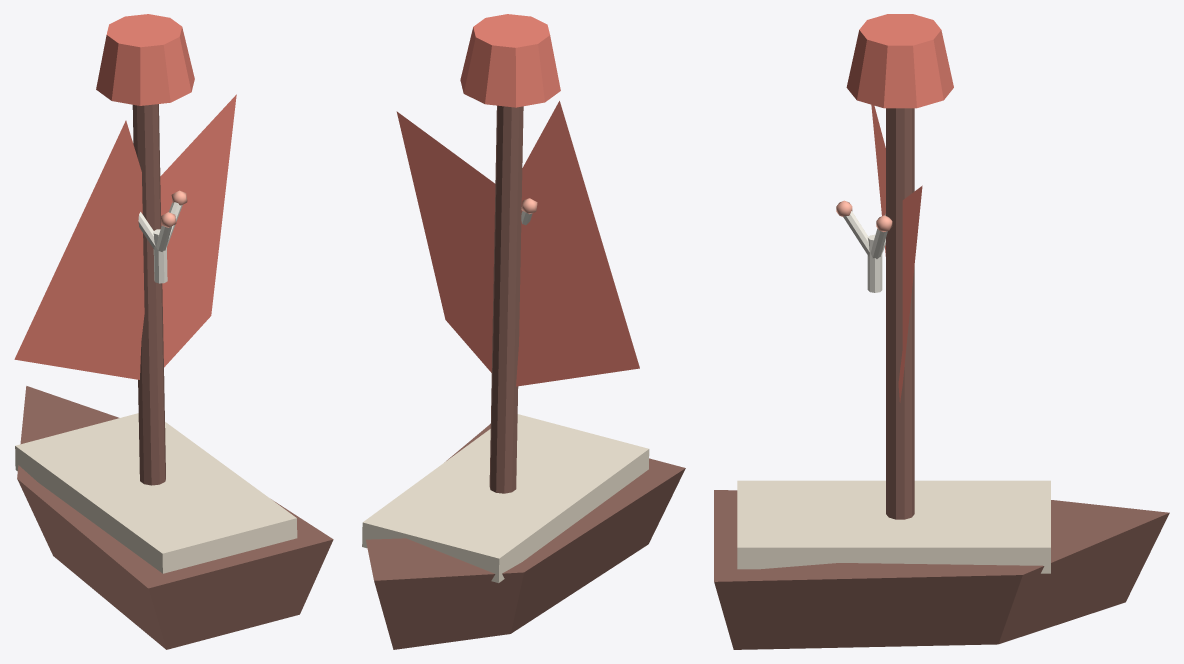
Rendered from scout-coral.glb.
The picture shows the model from 3 angles, left to right: view 1: azimuth 30°, elevation 25°; view 2: azimuth 150°, elevation 25°; view 3: azimuth 270°, elevation 25°; orthographic projection. The views are drawn at different scales.
Visible parts, largest first — view 1: Distinctive sail, Carved hull, Pearl deck, Mast, Lookout basket, Coral stem; view 2: Distinctive sail, Pearl deck, Carved hull, Mast, Lookout basket; view 3: Carved hull, Pearl deck, Mast, Lookout basket, Distinctive sail, Coral stem.
Boxes of the visible parts, left/top/right/bottom form: Distinctive sail: left=14, top=94, right=236, bottom=379; Carved hull: left=17, top=386, right=333, bottom=649; Pearl deck: left=15, top=413, right=297, bottom=573; Mast: left=132, top=104, right=165, bottom=485; Lookout basket: left=96, top=14, right=194, bottom=105; Coral stem: left=153, top=229, right=167, bottom=283; Distinctive sail: left=396, top=101, right=639, bottom=386; Pearl deck: left=362, top=414, right=649, bottom=582; Carved hull: left=366, top=424, right=685, bottom=649; Mast: left=489, top=105, right=523, bottom=493; Lookout basket: left=460, top=14, right=560, bottom=107; Carved hull: left=714, top=490, right=1169, bottom=649; Pearl deck: left=737, top=480, right=1050, bottom=573; Mast: left=886, top=108, right=914, bottom=519; Lookout basket: left=846, top=14, right=953, bottom=108; Distinctive sail: left=871, top=104, right=922, bottom=402; Coral stem: left=867, top=234, right=882, bottom=292.
Bounding box in the file's own units: 0.8968 × 2.04 × 1.44.
